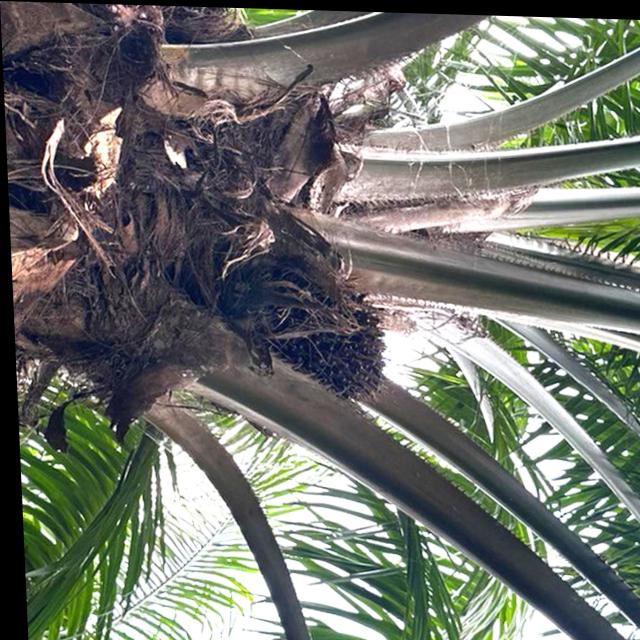unripe: (232, 262, 402, 426)
